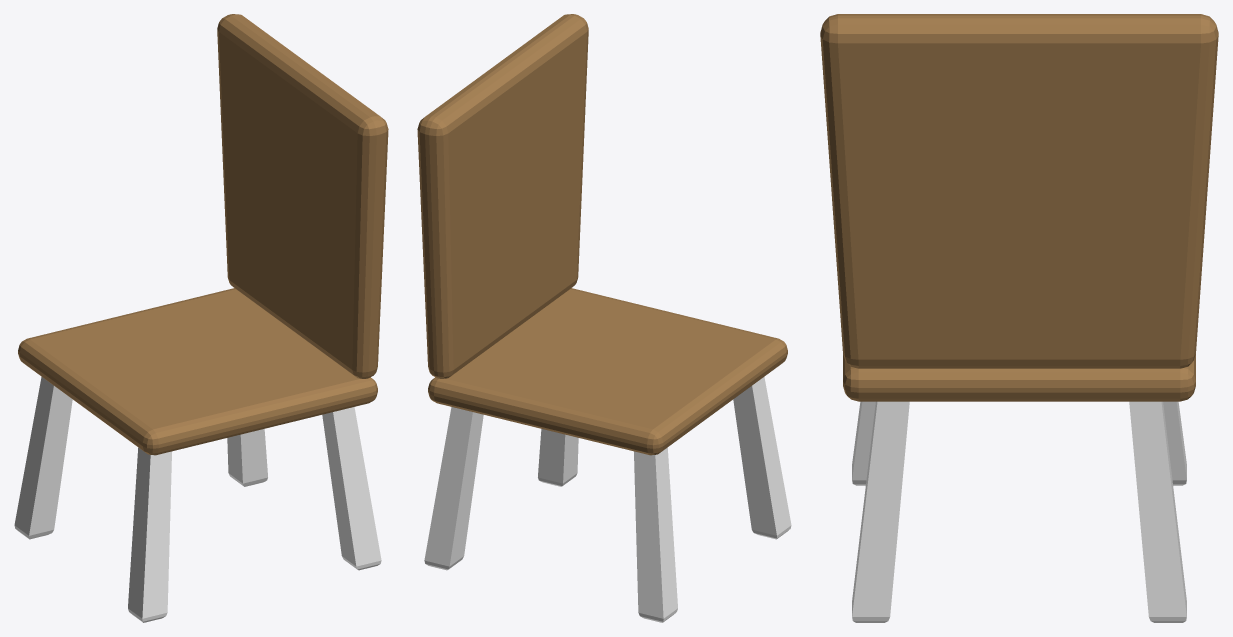
File: Chair_9.fbx
3 renders of one model, left to right at view 1: azimuth 30°, elevation 25°; view 2: azimuth 150°, elevation 25°; view 3: azimuth 270°, elevation 25°, orthographic. The views are drawn at different scales.
Parts seen in each view (by area): view 1: Chair_9; view 2: Chair_9; view 3: Chair_9.
Boxes of the visible parts, box(x1,y1,x2,y2) form: Chair_9: box(14, 14, 388, 622); Chair_9: box(417, 14, 791, 622); Chair_9: box(820, 14, 1218, 622).
Size of the model in its own units: 0.3518 by 0.6439 by 0.3878.
